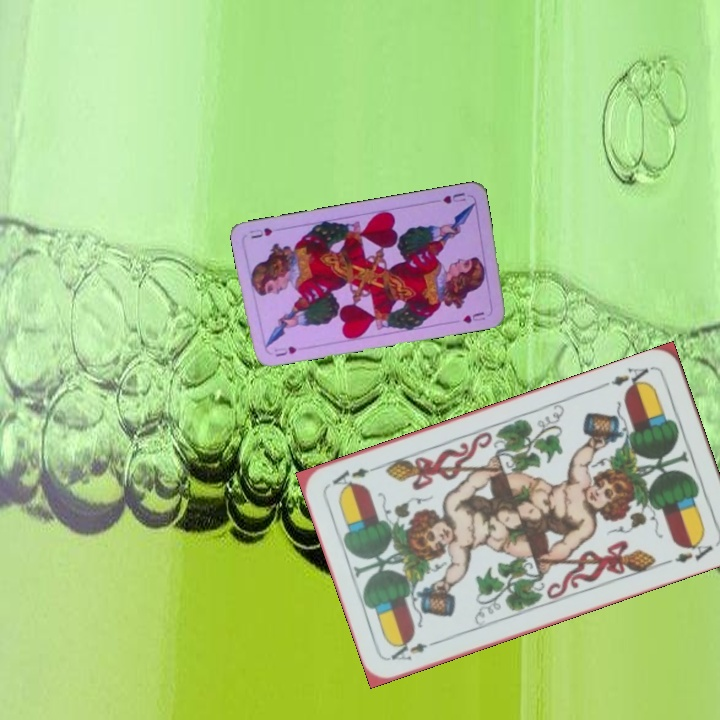EA: (598, 362, 655, 393), (387, 635, 443, 664)
HU: (439, 188, 468, 206), (270, 342, 299, 359)
